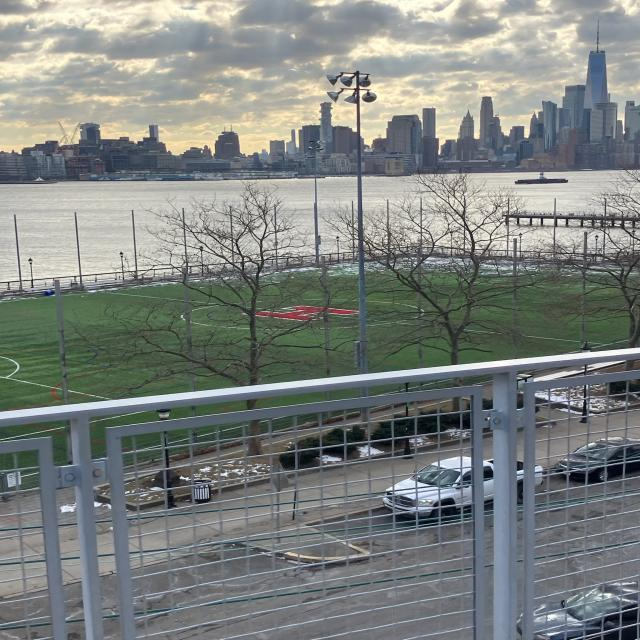WTC: (584, 18, 609, 105)
